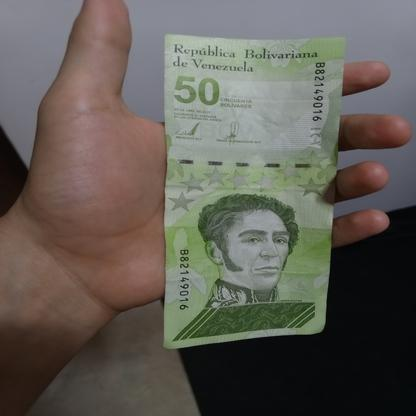fifty-front-vef: (163, 34, 346, 348)
